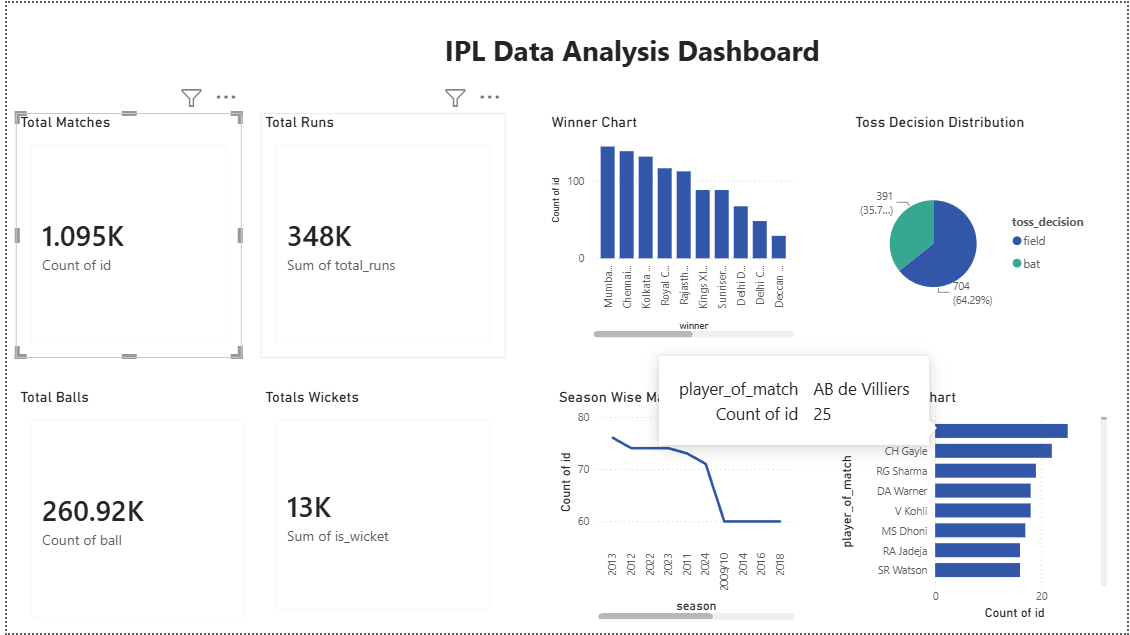

The page's visual inventory and layout, read from the dashboard file:
{"tool":"powerbi","page":{"name":"Page 1","canvas":[1280,720],"ordinal":0},"visuals":[{"type":"cardVisual","title":"Total Matches","fields":{"Data":["CountNonNull(matches.id)"]},"box":[9.6,126.2,259.3,279.9],"z":0},{"type":"cardVisual","title":"Total Balls","fields":{"Data":["CountNonNull(deliveries.ball)"]},"box":[9.6,440.5,279.9,279.9],"z":1000},{"type":"cardVisual","title":"Total Runs","fields":{"Data":["Sum(deliveries.total_runs)"]},"box":[289.5,126.2,279.9,279.9],"z":2000},{"type":"cardVisual","title":"Totals Wickets","fields":{"Data":["Sum(deliveries.is_wicket)"]},"box":[289.5,440.5,279.9,270.3],"z":3000},{"type":"lineClusteredColumnComboChart","title":"Winner Chart","fields":{"Category":["matches.winner"],"Y":["CountNonNull(matches.id)"]},"box":[617.5,126.2,288.2,262.1],"z":4001},{"type":"lineChart","title":"Season Trend","fields":{"Category":["matches.season"],"Y":["CountNonNull(matches.id)"]},"box":[625.7,440.5,279.9,270.3],"z":4002},{"type":"pieChart","title":"Toss Decision Pie","fields":{"Category":["matches.toss_decision"],"Y":["CountNonNull(matches.id)"]},"box":[964.7,126.2,279.9,279.9],"z":4003},{"type":"clusteredBarChart","title":"Top Players Chart","fields":{"Category":["matches.player_of_match"],"Y":["CountNonNull(matches.id)"]},"box":[946.8,440.5,315.6,270.3],"z":4004},{"type":"textbox","box":[466.6,27.4,588.7,65.9],"z":4007},{"type":"textbox","box":[323.8,27.4,780.8,65.9],"z":4008}]}

Visuals, with their boxes in screenshot pixels (x1, y1, x2, y2), scaled from the page's 1280x720 canvas onto the 1130x635 screenshot:
"Total Matches" cardVisual: (left=8, top=111, right=237, bottom=358)
"Total Balls" cardVisual: (left=8, top=388, right=256, bottom=634)
"Total Runs" cardVisual: (left=256, top=111, right=503, bottom=358)
"Totals Wickets" cardVisual: (left=256, top=388, right=503, bottom=627)
"Winner Chart" lineClusteredColumnComboChart: (left=545, top=111, right=800, bottom=342)
"Season Trend" lineChart: (left=552, top=388, right=799, bottom=627)
"Toss Decision Pie" pieChart: (left=852, top=111, right=1099, bottom=358)
"Top Players Chart" clusteredBarChart: (left=836, top=388, right=1114, bottom=627)
textbox: (left=412, top=24, right=932, bottom=82)
textbox: (left=286, top=24, right=975, bottom=82)
